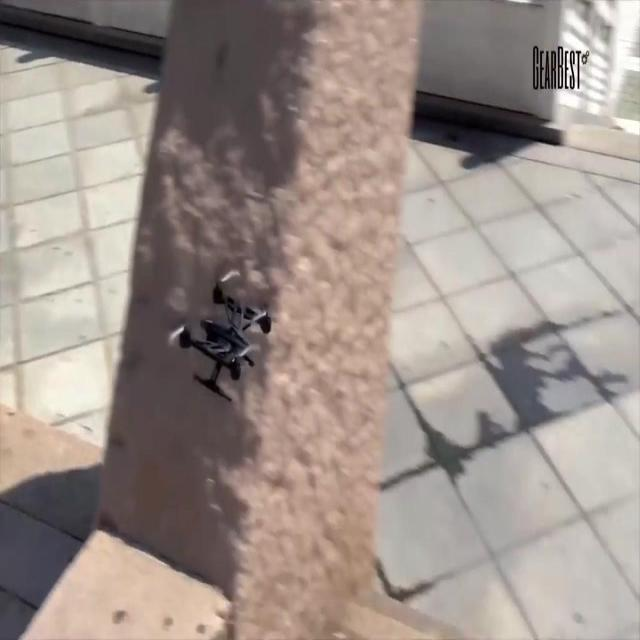drone: (162, 264, 272, 402)
